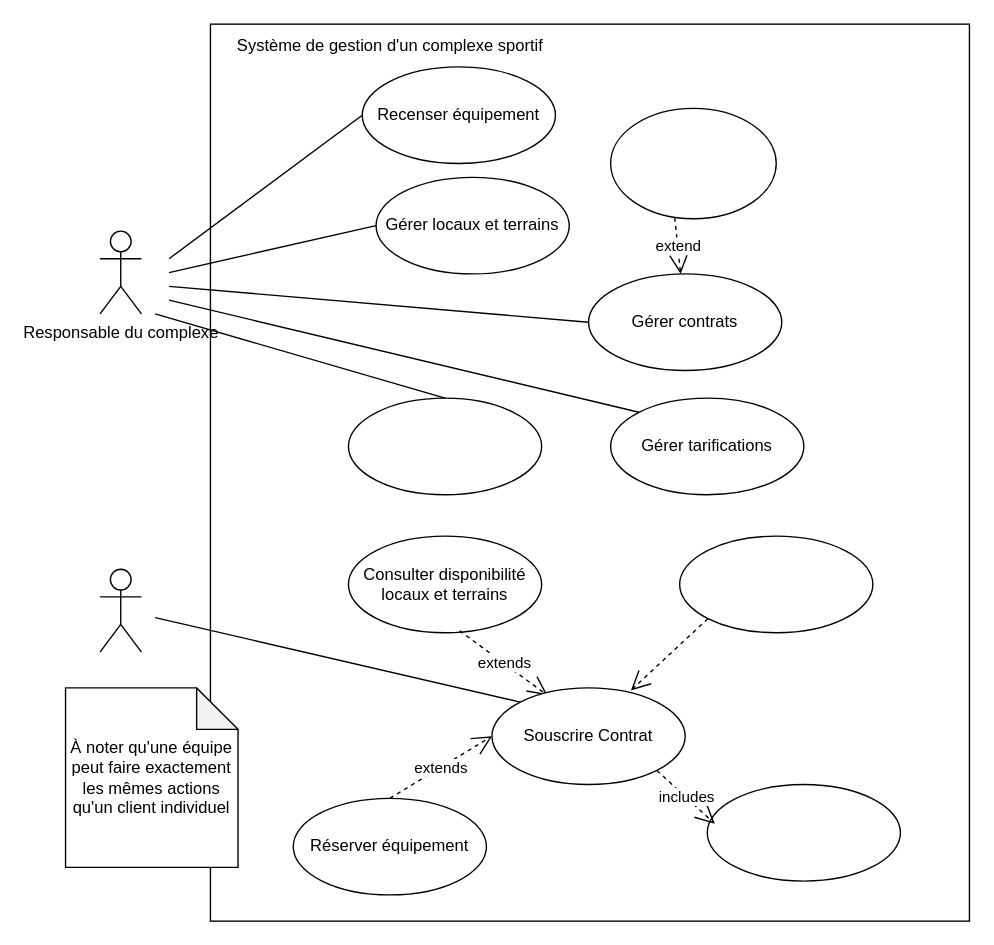
The diagram is 994 pixels wide and 945 high, and some of its shapes have lost their labels. Here are the shapes that lost their labels. From the top down, the centre of each, then its label:
At [692,163]: "Ajouter clause".
At [444,446]: "Gérer horaires".
At [775,584]: "Réserver local ou terrain".
At [120,610]: "Client".
At [803,832]: "Payer tarification".
